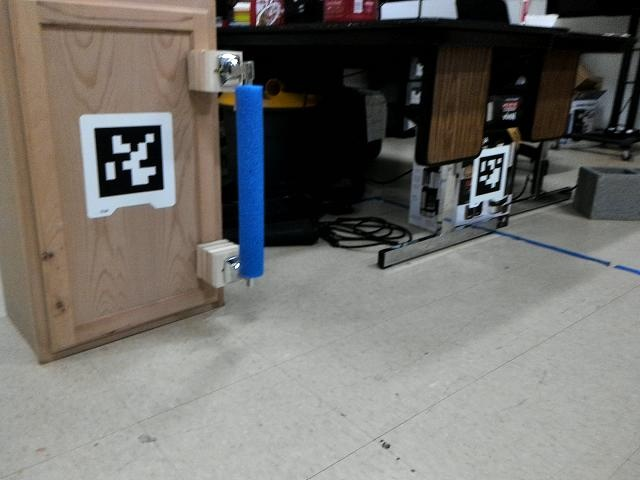noodle_handle: (228, 76, 279, 287)
